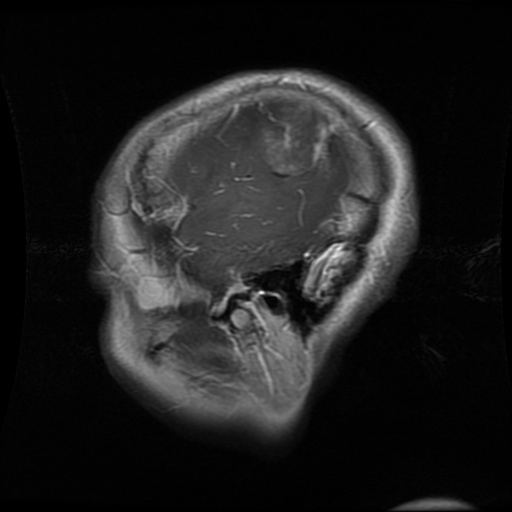glioma: (261, 103, 333, 176)
